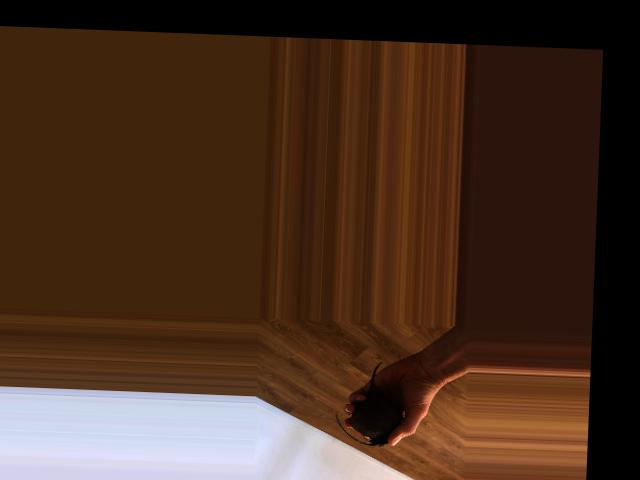beet: (333, 360, 403, 447)
